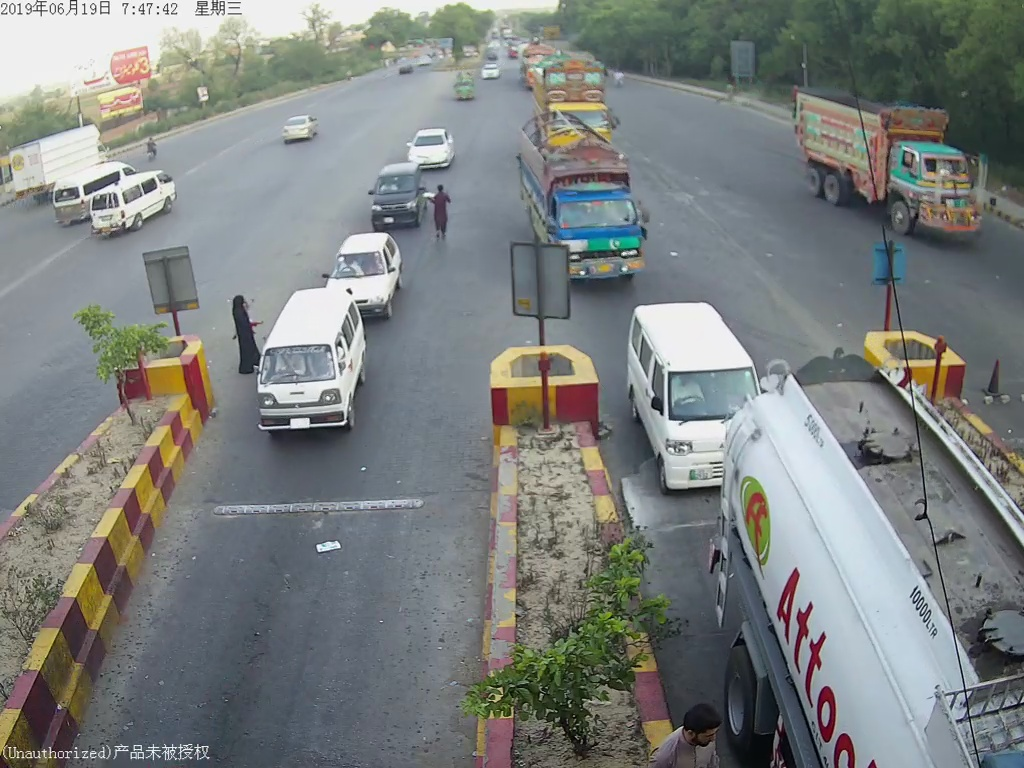Cat-1: (625, 297, 757, 487), (253, 291, 365, 432), (323, 233, 408, 319), (365, 161, 428, 227), (403, 120, 457, 174)
Cat-2: (521, 123, 651, 281)
Cat-4: (788, 83, 982, 239)
